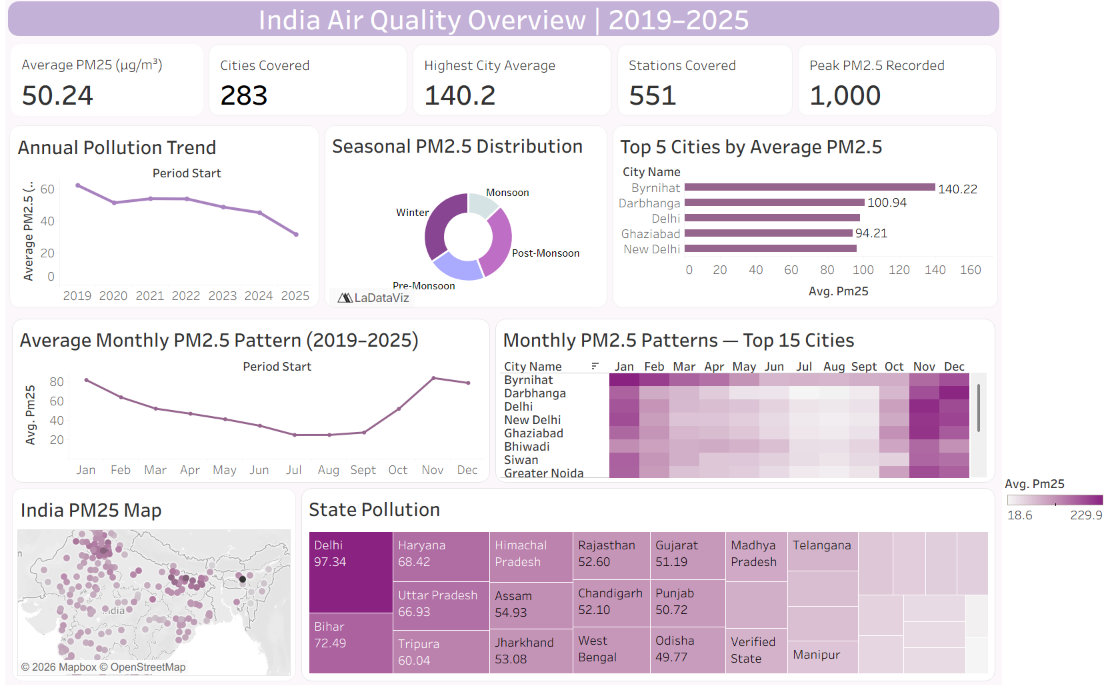

What the dashboard file says about the page in this screenshot:
{"tool":"tableau","page":{"name":"India Air Quality Overview | 2019–2025","canvas":[1800,1050],"ordinal":0},"visuals":[{"type":"title","box":[8,8,1495,60.1]},{"type":"legend","title":"Seasonal PM2.5 Distribution","param":"[federated.0c6x4eq0snfawf0zpa6we02jrovt].[none:Calculation_0578125794140160:nk]","box":[1503,8,160,710]},{"type":"worksheet","title":"Average PM25 (µg/m³)","mark":"Automatic","box":[12,72.1,297,115.9]},{"type":"worksheet","title":"Cities Covered","mark":"Automatic","box":[309,72.1,306.3,115.9]},{"type":"worksheet","title":"Highest City Average","mark":"Automatic","box":[615.3,72.1,306.3,115.9]},{"type":"worksheet","title":"Stations Covered","mark":"Automatic","box":[921.7,72.1,271,115.9]},{"type":"worksheet","title":"Peak PM2.5 Recorded","mark":"Automatic","box":[1192.7,72.1,306.3,115.9]},{"type":"worksheet","title":"Annual Pollution Trend","mark":"Line","rows":["pm25"],"cols":["period_start"],"box":[10,194,473,282]},{"type":"worksheet","title":"Seasonal PM2.5 Distribution","mark":"VizExtension","box":[483,194,432,282]},{"type":"worksheet","title":"Top 5 Cities by Average PM2.5","mark":"Bar","rows":["city_name"],"cols":["pm25"],"box":[915,194,586,282]},{"type":"worksheet","title":"Average Monthly PM2.5 Pattern (2019–2025)","mark":"Line","rows":["pm25"],"cols":["period_start"],"box":[14,484,724.9,254]},{"type":"worksheet","title":"Monthly PM2.5 Patterns — Top 15 Cities","mark":"Square","rows":["city_name"],"cols":["period_start"],"box":[738.9,484,758,254]},{"type":"legend","title":"Monthly PM2.5 Patterns — Top 15 Cities","param":"[federated.0c6x4eq0snfawf0zpa6we02jrovt].[avg:pm25:qk]","box":[1503,718,160,81]},{"type":"worksheet","title":"India PM25 Map","mark":"Circle","box":[14,738,434,298]},{"type":"worksheet","title":"State Pollution","mark":"Automatic","box":[448,738,1049,298]}]}

Visuals, with their boxes on the page's 1800x1050 design canvas (x1, y1, x2, y2). These are canvas units, not pixel positions in the 1111x685 screenshot, which may show the page scaled, cropped or inside an application window:
title: region(8, 8, 1503, 68)
"Seasonal PM2.5 Distribution" legend: region(1503, 8, 1663, 718)
"Average PM25 (µg/m³)" worksheet: region(12, 72, 309, 188)
"Cities Covered" worksheet: region(309, 72, 615, 188)
"Highest City Average" worksheet: region(615, 72, 922, 188)
"Stations Covered" worksheet: region(922, 72, 1193, 188)
"Peak PM2.5 Recorded" worksheet: region(1193, 72, 1499, 188)
"Annual Pollution Trend" worksheet (Line marks): region(10, 194, 483, 476)
"Seasonal PM2.5 Distribution" worksheet (VizExtension marks): region(483, 194, 915, 476)
"Top 5 Cities by Average PM2.5" worksheet (Bar marks): region(915, 194, 1501, 476)
"Average Monthly PM2.5 Pattern (2019–2025)" worksheet (Line marks): region(14, 484, 739, 738)
"Monthly PM2.5 Patterns — Top 15 Cities" worksheet (Square marks): region(739, 484, 1497, 738)
"Monthly PM2.5 Patterns — Top 15 Cities" legend: region(1503, 718, 1663, 799)
"India PM25 Map" worksheet (Circle marks): region(14, 738, 448, 1036)
"State Pollution" worksheet: region(448, 738, 1497, 1036)
